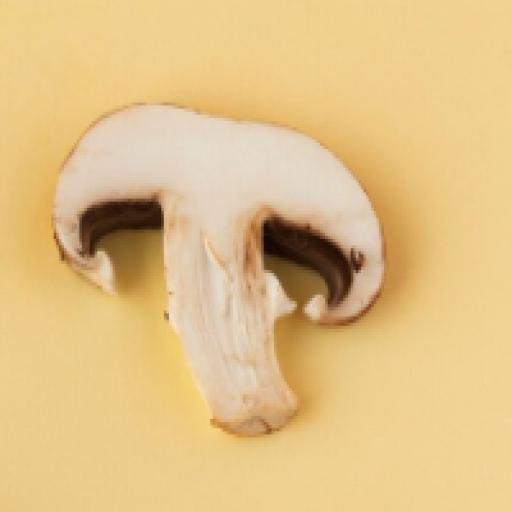Button Mushroom: (45, 95, 396, 433)
